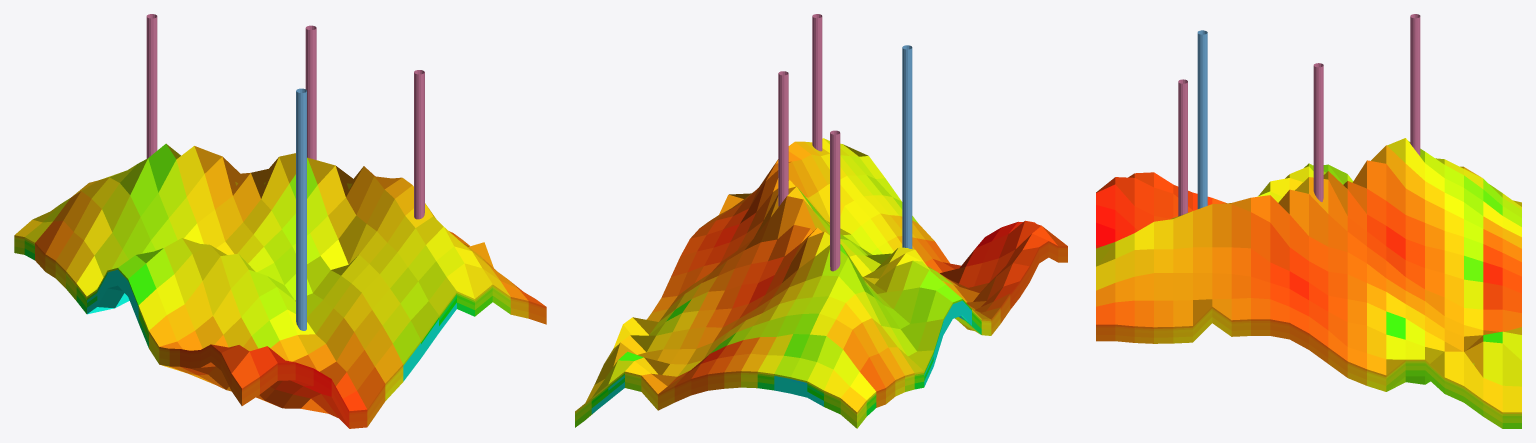
Rendered from permeability-het-v1.glb.
The picture shows the model from 3 angles, left to right: view 1: azimuth 30°, elevation 25°; view 2: azimuth 150°, elevation 25°; view 3: azimuth 270°, elevation 25°; orthographic projection. The views are drawn at different scales.
Visible parts, largest first — view 1: reservoir, INJ, PROD-2, PROD-3, PROD-1; view 2: reservoir, INJ, PROD-2, PROD-3, PROD-1; view 3: reservoir, INJ, PROD-2, PROD-1, PROD-3.
Boxes of the visible parts, x1,y1,x2,y2 form: reservoir: [14, 143, 546, 428]; INJ: [296, 88, 306, 330]; PROD-2: [146, 14, 157, 158]; PROD-3: [414, 70, 424, 219]; PROD-1: [305, 25, 316, 159]; reservoir: [575, 138, 1067, 428]; INJ: [902, 45, 912, 248]; PROD-2: [830, 130, 840, 271]; PROD-3: [812, 14, 822, 151]; PROD-1: [778, 71, 788, 206]; reservoir: [1096, 138, 1521, 428]; INJ: [1197, 30, 1207, 208]; PROD-2: [1410, 14, 1420, 155]; PROD-1: [1313, 63, 1323, 201]; PROD-3: [1178, 79, 1187, 216].
Size of the model in its own units: 0.3864 by 0.4023 by 0.5.
3 materials, 1 textured.
